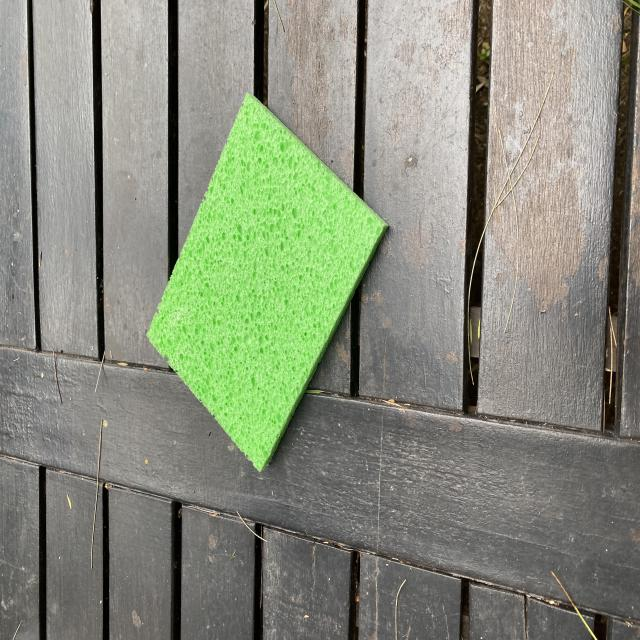sponge: (146, 93, 388, 473)
